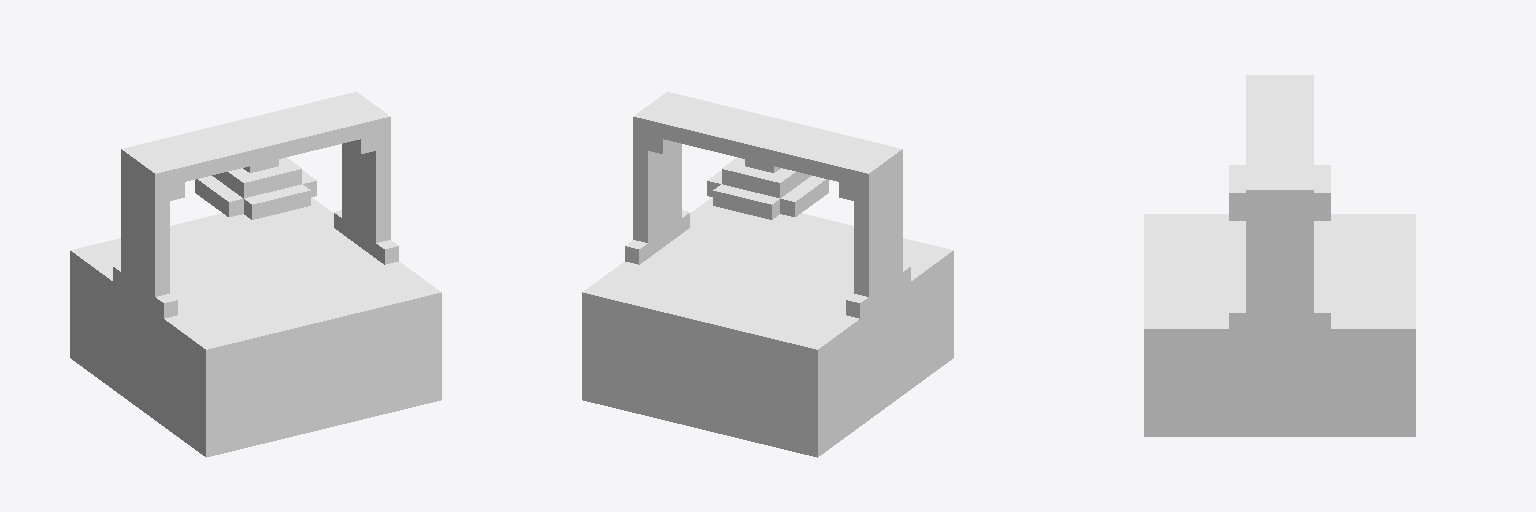
The model's file is MetalPress.obj.
3 renders of one model, left to right at view 1: azimuth 30°, elevation 25°; view 2: azimuth 150°, elevation 25°; view 3: azimuth 270°, elevation 25°, orthographic.
Visible parts, largest first — view 1: object 1; view 2: object 1; view 3: object 1.
Part boxes in pixels (left/top/right/bottom): object 1: left=70, top=92, right=441, bottom=457; object 1: left=582, top=92, right=953, bottom=457; object 1: left=1144, top=75, right=1415, bottom=436.
Bounding box in the file's own units: 1.6 × 1.6 × 1.6.